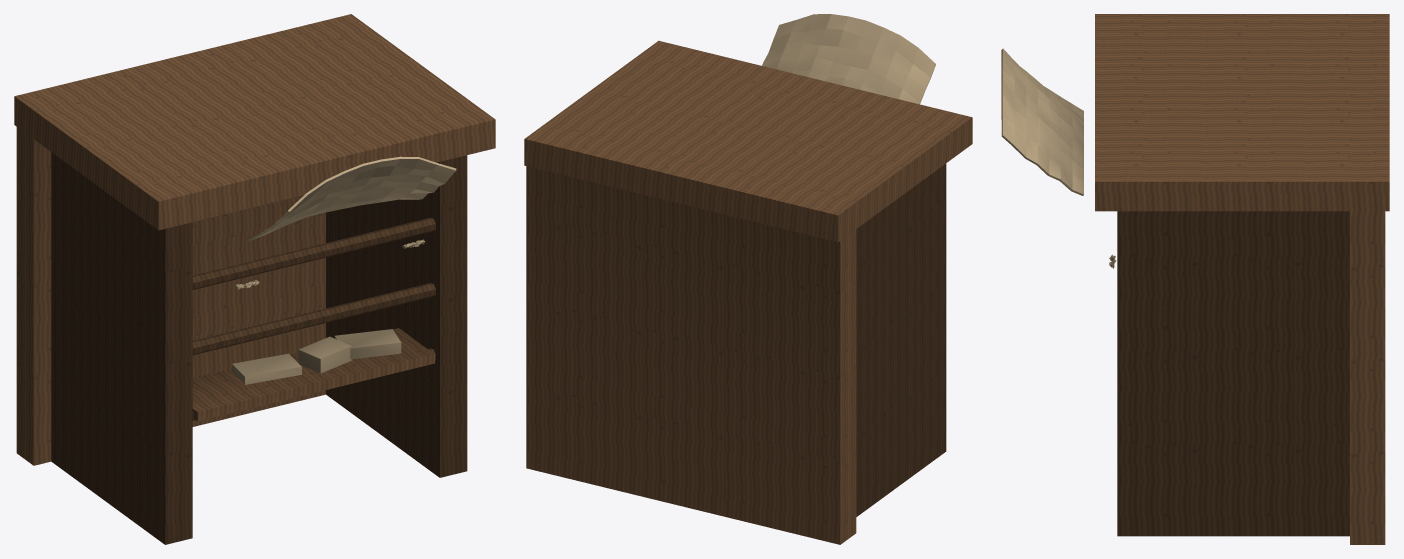
File: booth_cloth.glb
3 views of the same model, side by side, from view 1: azimuth 30°, elevation 25°; view 2: azimuth 150°, elevation 25°; view 3: azimuth 270°, elevation 25° (orthographic). The views are drawn at different scales.
Parts seen in each view (by area): view 1: booth_cloth; view 2: booth_cloth; view 3: booth_cloth.
Part boxes in pixels (x1,y1,x2,y2): booth_cloth: (14,14,495,544); booth_cloth: (524,14,972,544); booth_cloth: (1001,14,1389,544).
Size of the model in its own units: 2.7 by 2.97 by 2.64.
Materials: 2 (2 with a texture image).
